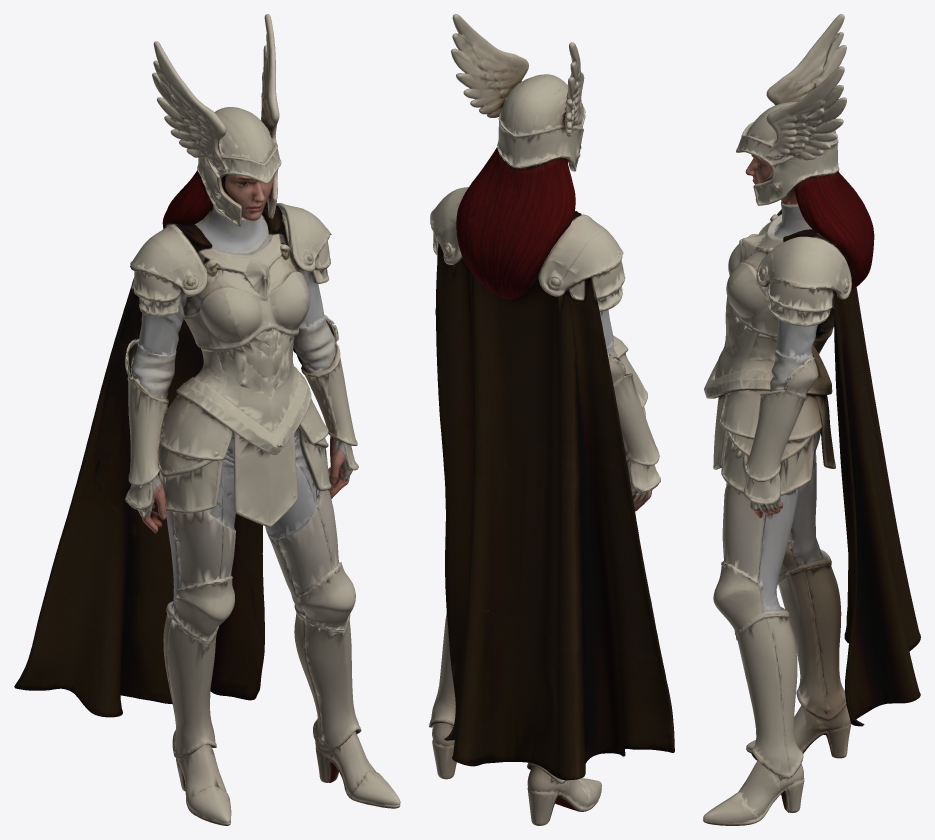
Rendered from valquiria.glb.
3 renders of one model, left to right at view 1: azimuth 30°, elevation 25°; view 2: azimuth 150°, elevation 25°; view 3: azimuth 270°, elevation 25°, orthographic. The views are drawn at different scales.
Visible parts, largest first — view 1: tripo_node_8e87ccfc-e725-4f34-aba9-43782b27cfc1; view 2: tripo_node_8e87ccfc-e725-4f34-aba9-43782b27cfc1; view 3: tripo_node_8e87ccfc-e725-4f34-aba9-43782b27cfc1.
Part boxes in pixels (left/top/right/bottom): tripo_node_8e87ccfc-e725-4f34-aba9-43782b27cfc1: left=14, top=14, right=400, bottom=825; tripo_node_8e87ccfc-e725-4f34-aba9-43782b27cfc1: left=429, top=14, right=674, bottom=825; tripo_node_8e87ccfc-e725-4f34-aba9-43782b27cfc1: left=703, top=14, right=920, bottom=825.
Size of the model in its own units: 0.4049 by 0.9839 by 0.2662.
Materials: 1 (1 with a texture image).
